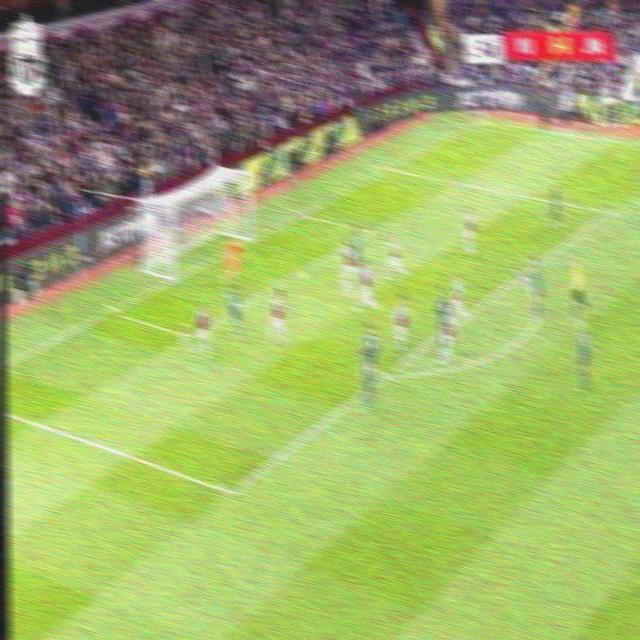bigarea_bottom_inner: (219, 475, 243, 505)
bigarea_top_inner: (601, 201, 618, 221)
bigarea_top_outter: (380, 160, 398, 176)
bottom_arc_area_intersection: (377, 366, 395, 384)
corner: (470, 113, 491, 125)
smallarea_bottom_inner: (179, 323, 200, 345)
smallarea_bottom_outter: (102, 300, 122, 322)
smallarea_top_inner: (361, 221, 380, 239)
smallarea_top_outter: (292, 204, 311, 223)
top_arc_area_intersection: (512, 267, 530, 284)
